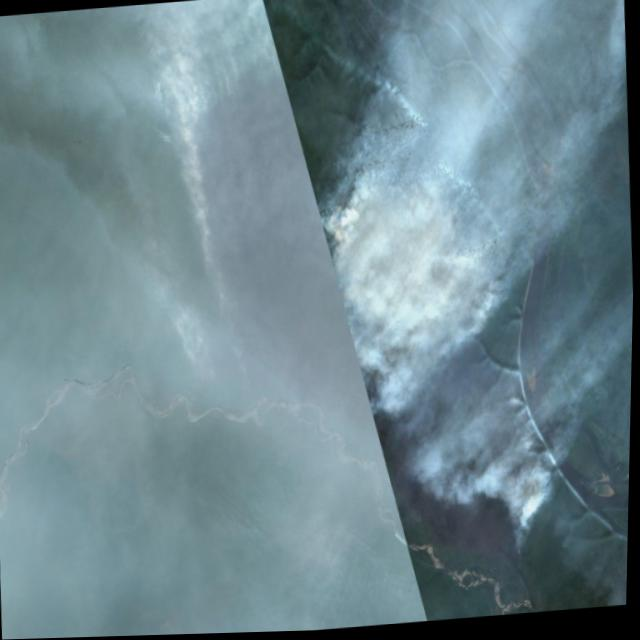fire: (134, 32, 570, 603)
